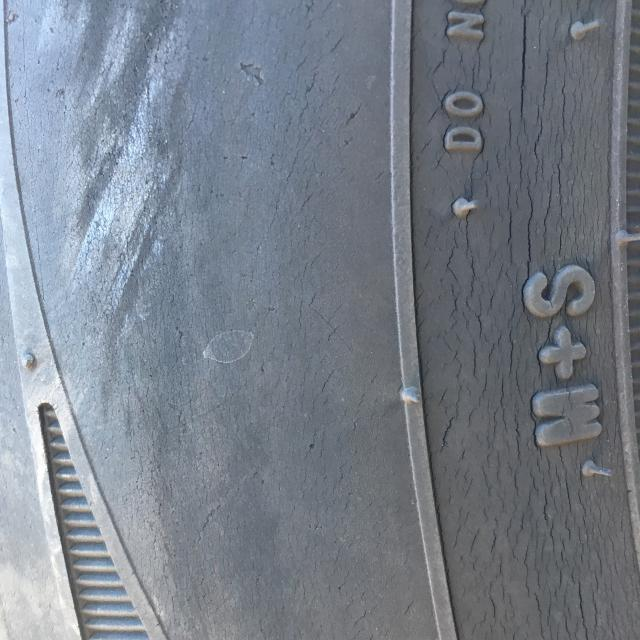Cracks: (24, 3, 399, 640), (412, 0, 640, 640)
